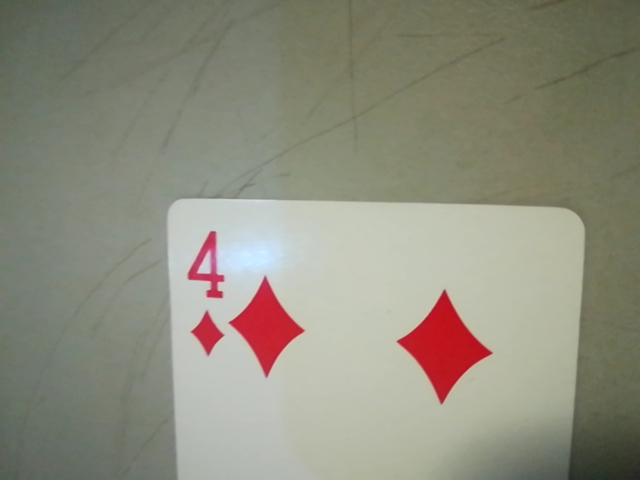fk 4: (171, 218, 236, 368)
